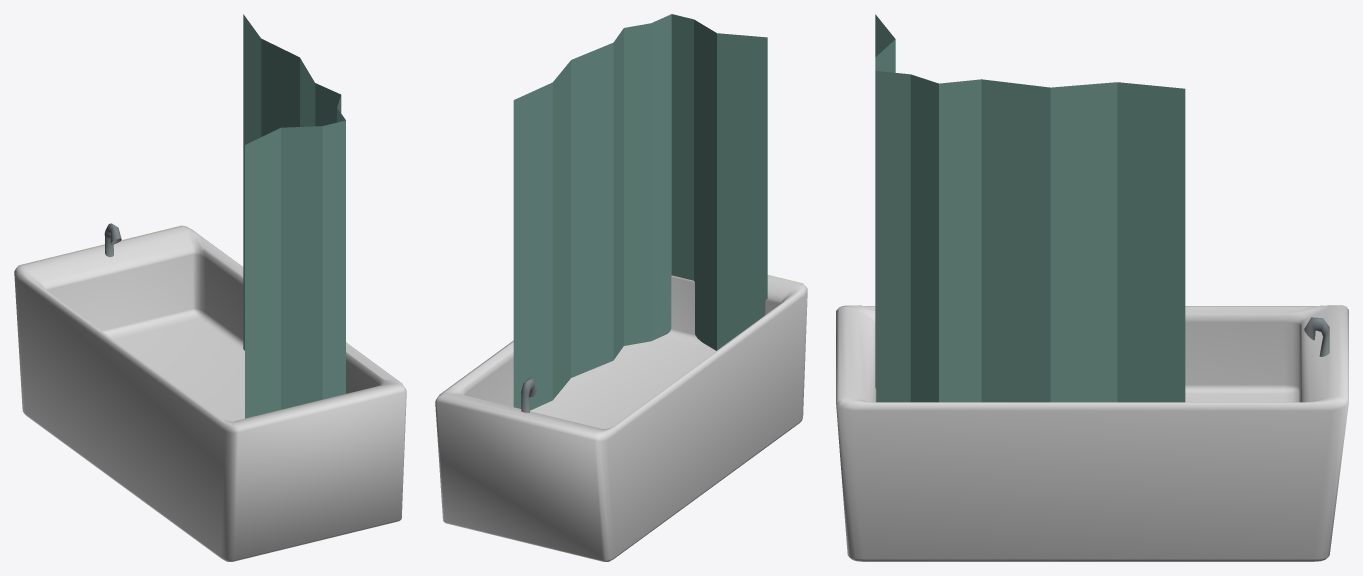
The model's file is Shower.fbx.
3 renders of one model, left to right at view 1: azimuth 30°, elevation 25°; view 2: azimuth 150°, elevation 25°; view 3: azimuth 270°, elevation 25°, orthographic. The views are drawn at different scales.
Visible parts, largest first — view 1: Cube.053, Plane.023; view 2: Plane.023, Cube.053; view 3: Plane.023, Cube.053.
Boxes of the visible parts, <box> form: Cube.053: <box>14,225,406,561</box>; Plane.023: <box>243,14,345,418</box>; Plane.023: <box>513,14,767,410</box>; Cube.053: <box>435,275,807,561</box>; Plane.023: <box>875,14,1185,402</box>; Cube.053: <box>836,305,1348,561</box>.
Bounding box in the file's own units: 220 × 478 × 476.
